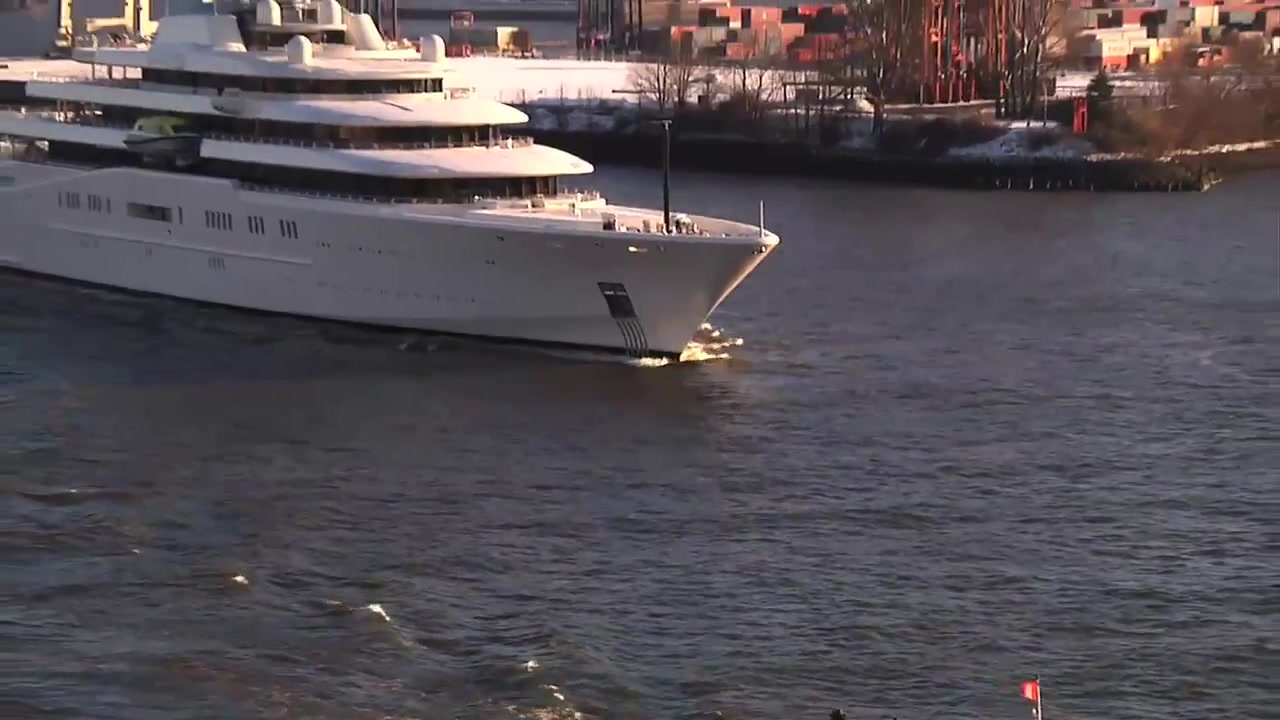boat: (1, 1, 784, 367)
